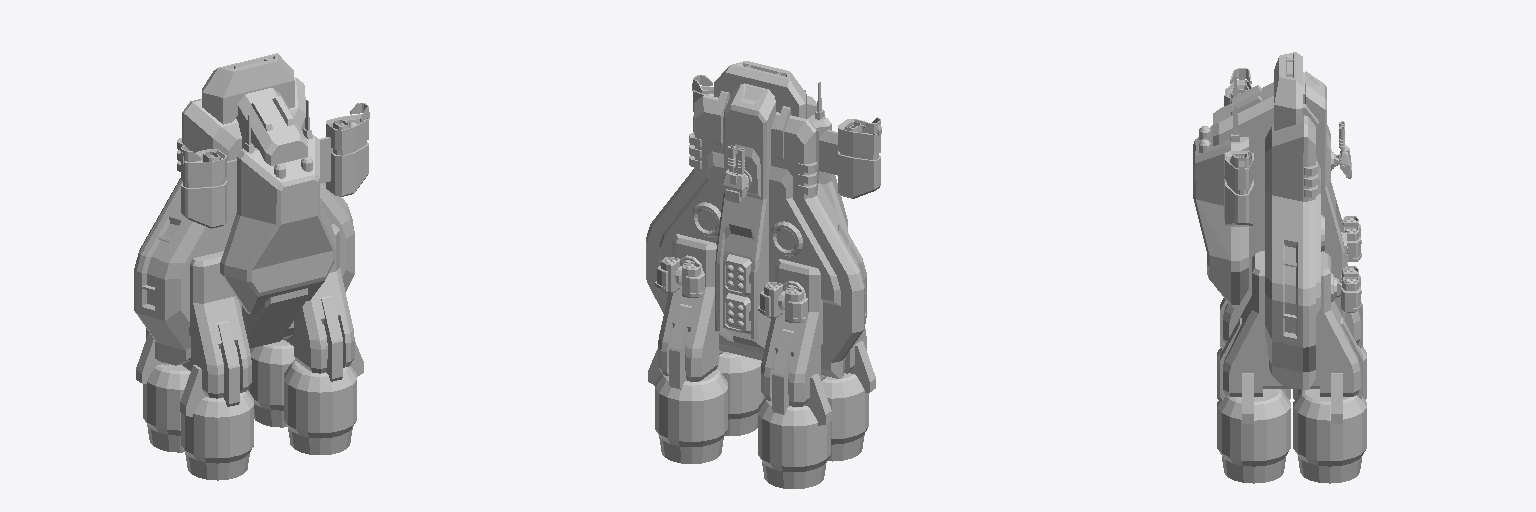
The model's file is _corvette.obj.
3 views of the same model, side by side, from view 1: azimuth 30°, elevation 25°; view 2: azimuth 150°, elevation 25°; view 3: azimuth 270°, elevation 25° (orthographic).
Parts seen in each view (by area): view 1: Arcade03_Corvette; view 2: Arcade03_Corvette; view 3: Arcade03_Corvette.
Part boxes in pixels (bbox=[...]): Arcade03_Corvette: bbox=[134, 53, 369, 480]; Arcade03_Corvette: bbox=[646, 61, 881, 488]; Arcade03_Corvette: bbox=[1193, 52, 1366, 483].
Bounding box in the file's own units: 2.41 × 4.05 × 1.68.